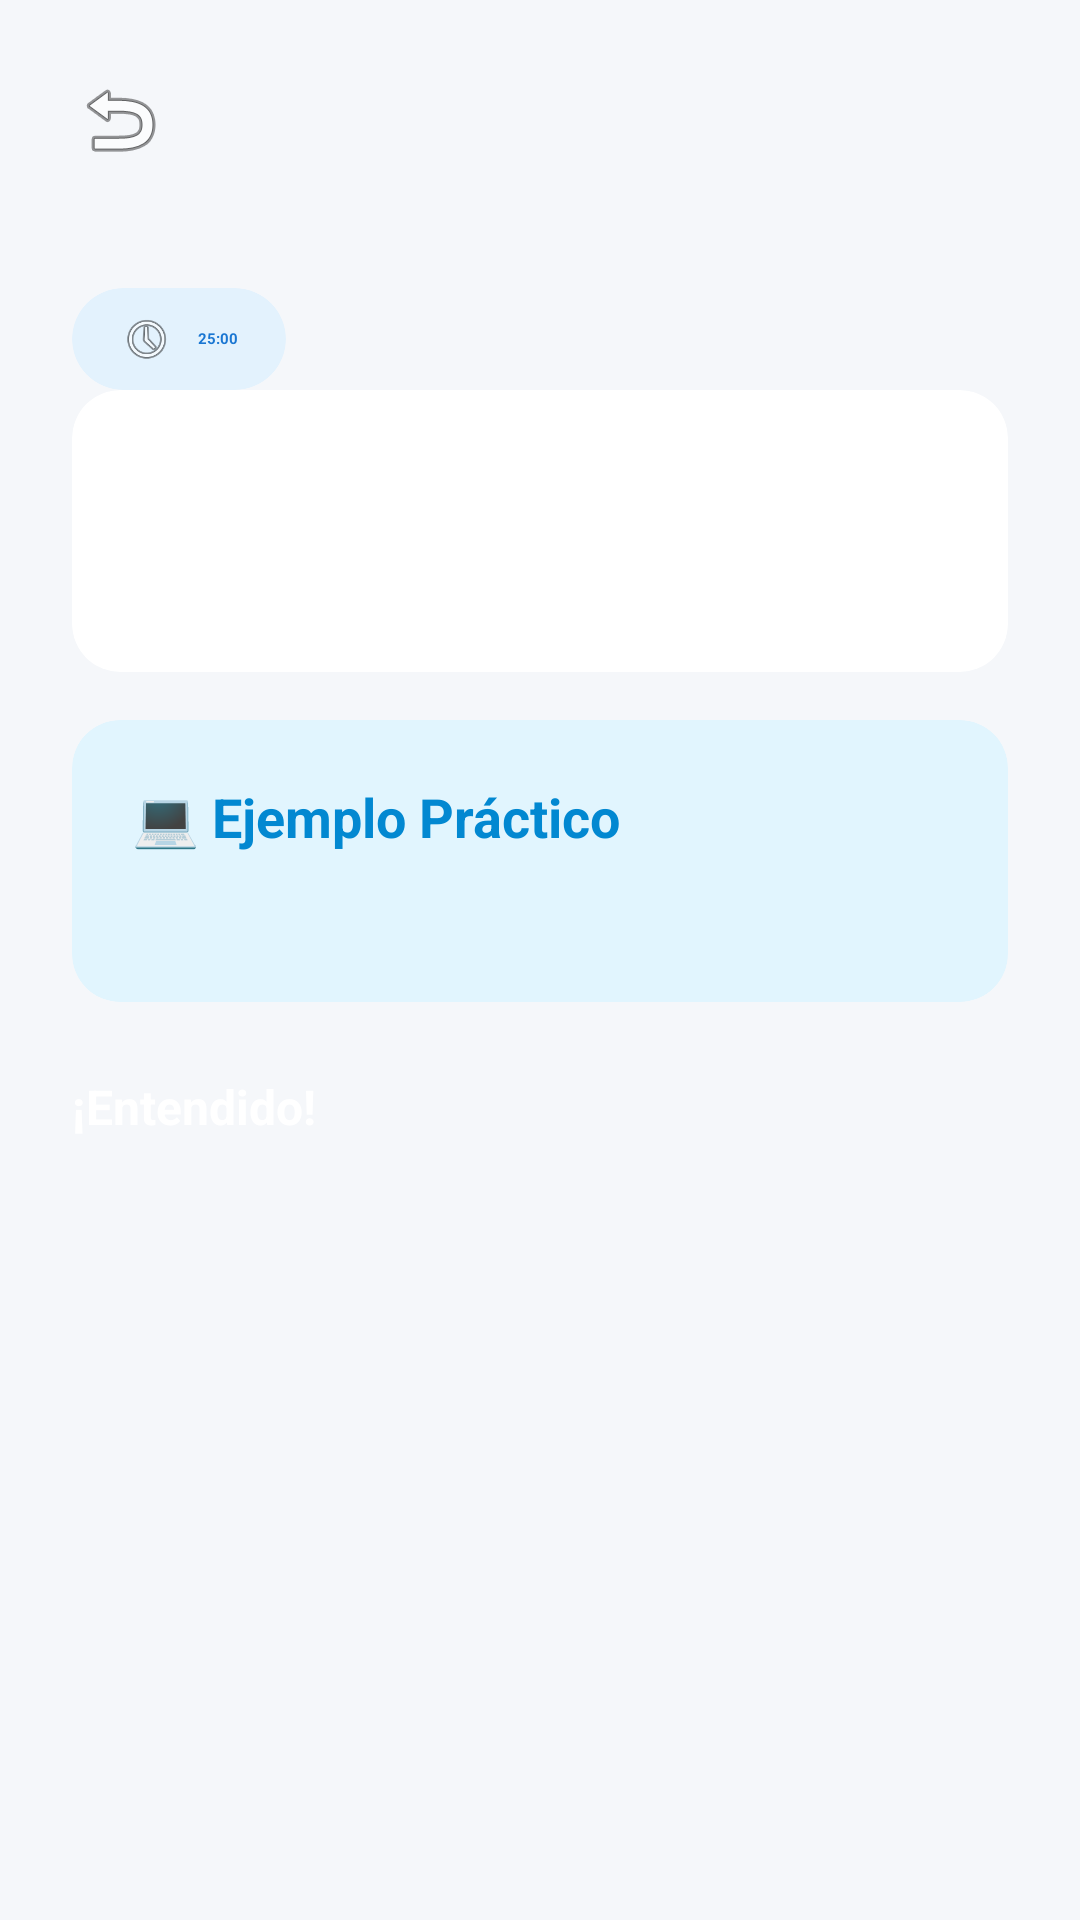

Point at icon controls on the screen. Image size 1080px×1920px, points as [x,y].
recent history: [146,339]
revert: [121,120]
